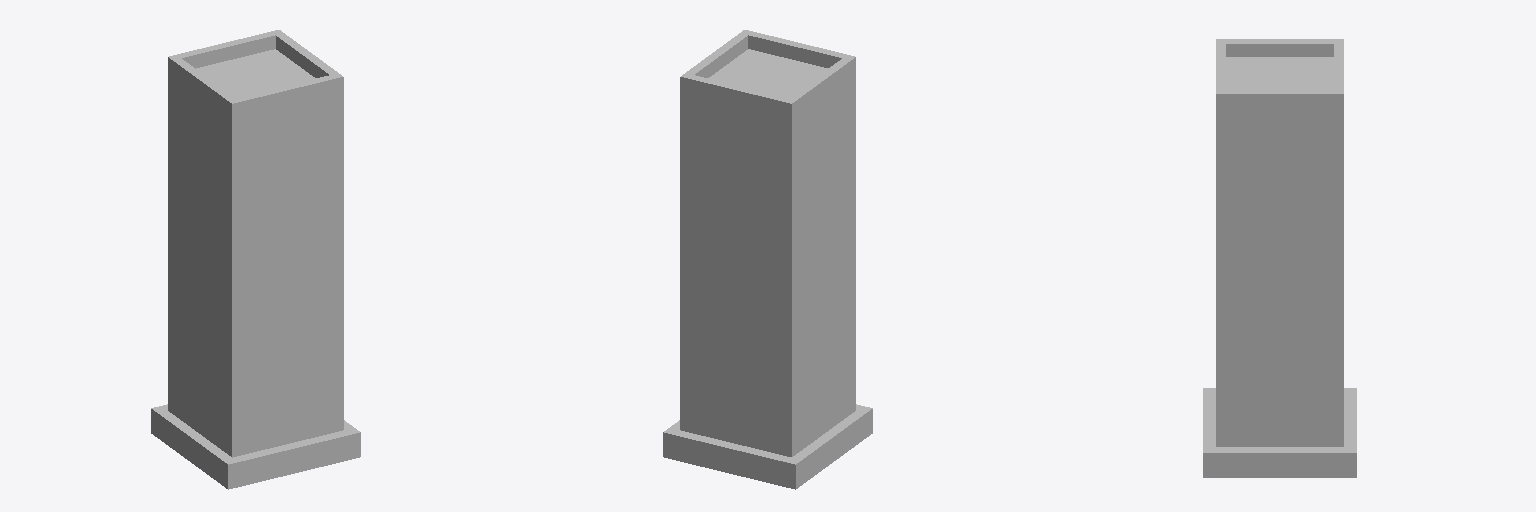
Rendered from CubeButtonStand.obj.
3 views of the same model, side by side, from view 1: azimuth 30°, elevation 25°; view 2: azimuth 150°, elevation 25°; view 3: azimuth 270°, elevation 25° (orthographic).
Visible parts, largest first — view 1: pCube1; view 2: pCube1; view 3: pCube1.
Boxes of the visible parts, x1,y1,x2,y2 form: pCube1: [151, 30, 360, 489]; pCube1: [663, 30, 872, 489]; pCube1: [1203, 39, 1356, 477].
Size of the model in its own units: 0.4748 by 1.3 by 0.4778.